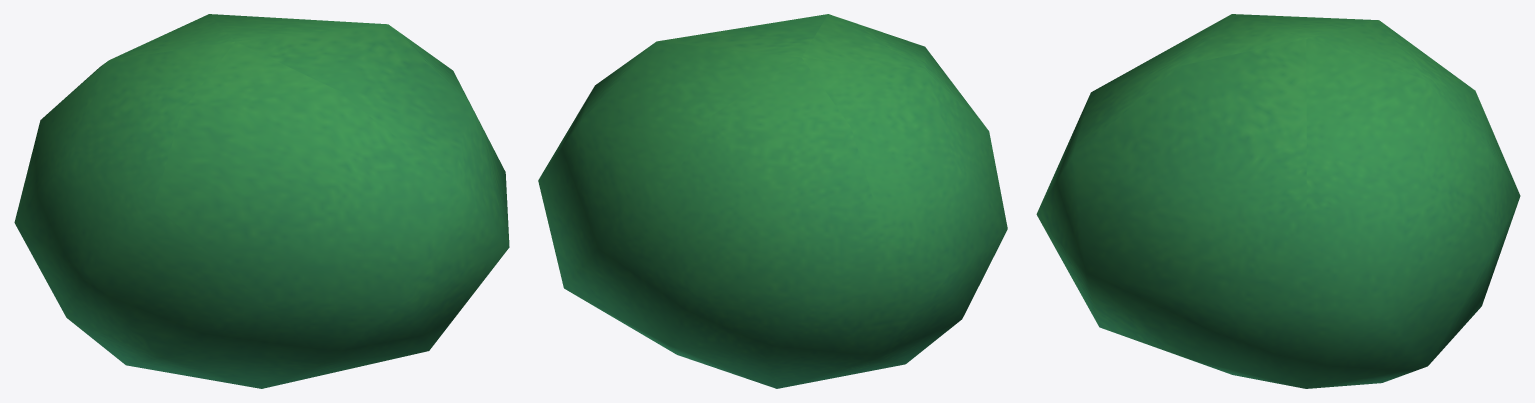
Rendered from Bush_2.glb.
3 renders of one model, left to right at view 1: azimuth 30°, elevation 25°; view 2: azimuth 150°, elevation 25°; view 3: azimuth 270°, elevation 25°, orthographic. The views are drawn at different scales.
Visible parts, largest first — view 1: Icosphere.035; view 2: Icosphere.035; view 3: Icosphere.035.
Part boxes in pixels (left/top/right/bottom): Icosphere.035: left=14, top=14, right=509, bottom=388; Icosphere.035: left=538, top=14, right=1007, bottom=388; Icosphere.035: left=1036, top=14, right=1520, bottom=388.
Size of the model in its own units: 1.32 by 0.9437 by 1.33.
1 material, 1 textured.
